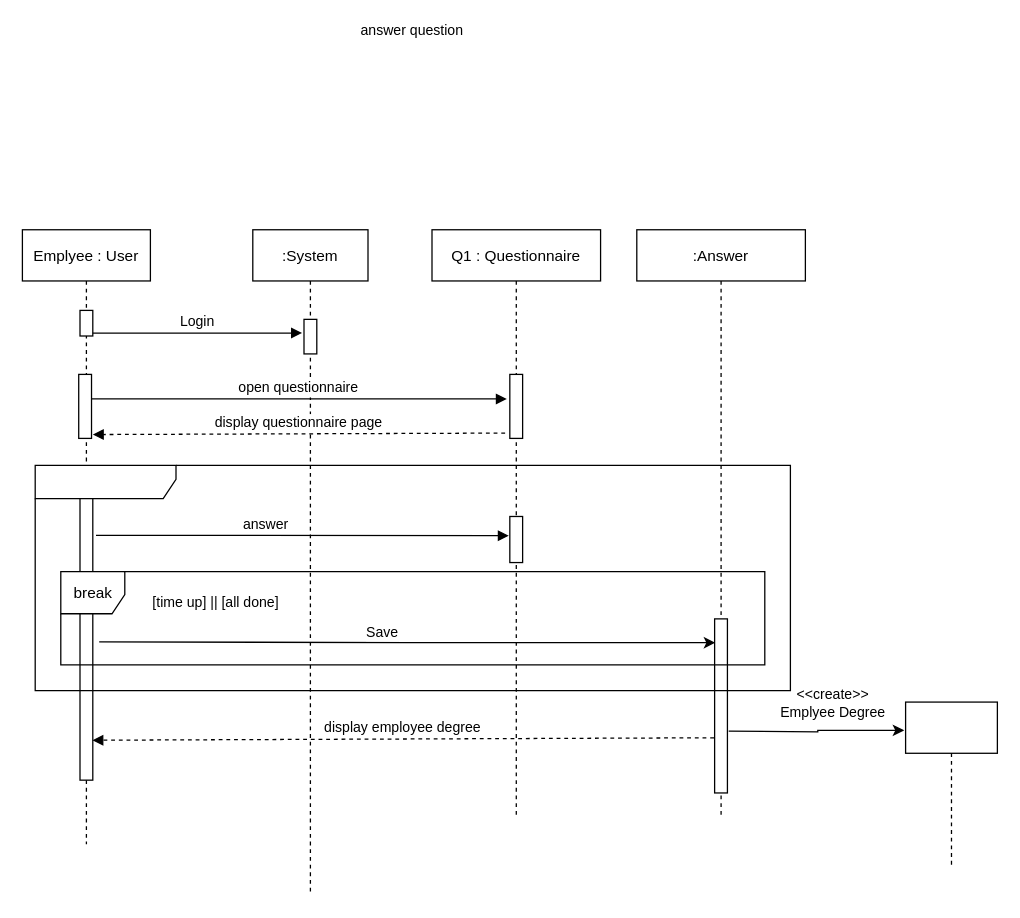
The diagram is 1020 pixels wide and 918 high, and some of its shapes have lost their labels. The shapes that lost their labels are listed below. From the top down, each one's centre as x and y in pixels, then its label:
the point at 412,577: Loop (questions)
the point at 950,784: :Degree
